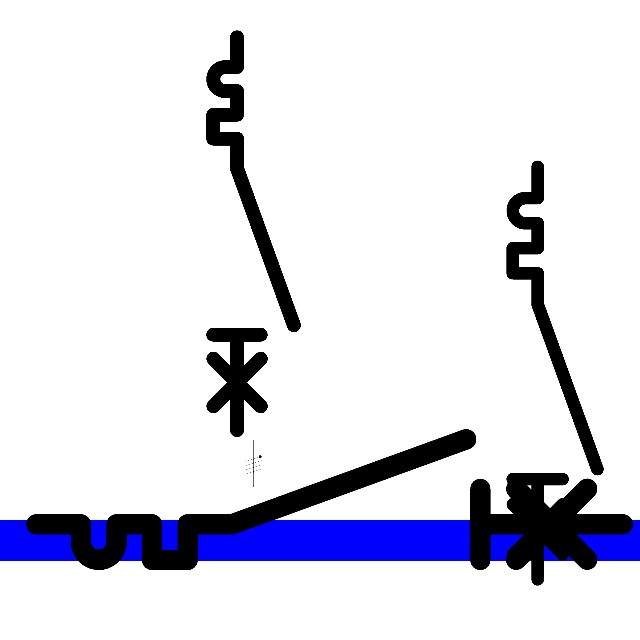interruptor_termomagnetico: (21, 424, 638, 575), (502, 156, 608, 590), (203, 27, 304, 440)
